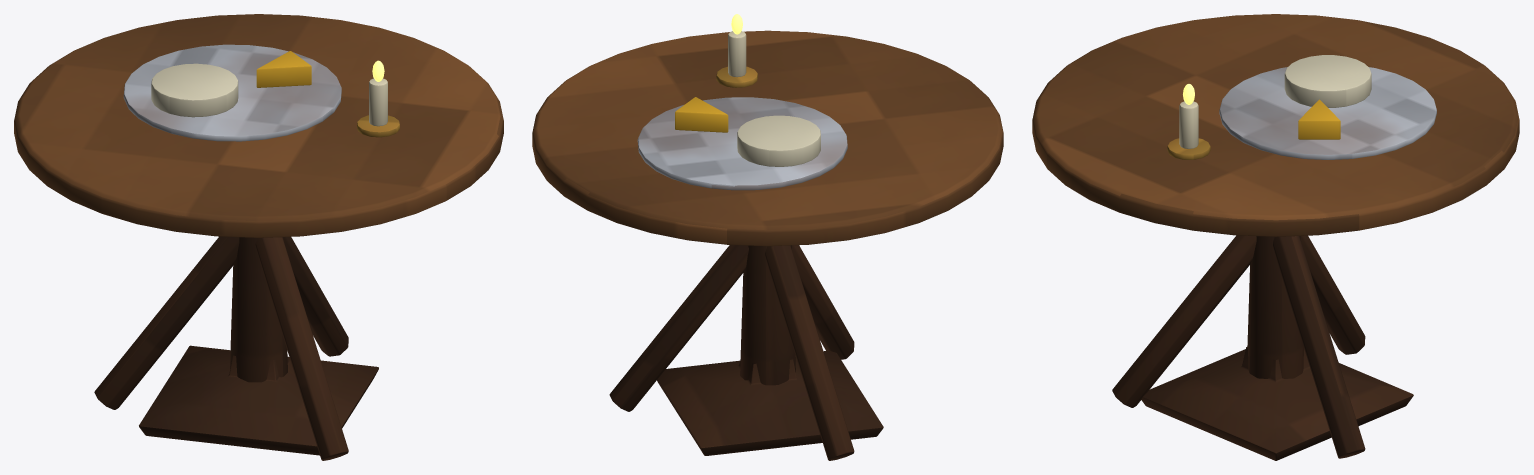
Rendered from prop_table.glb.
The picture shows the model from 3 angles, left to right: view 1: azimuth 30°, elevation 25°; view 2: azimuth 150°, elevation 25°; view 3: azimuth 270°, elevation 25°; orthographic projection. The views are drawn at different scales.
Visible parts, largest first — view 1: prop_table; view 2: prop_table; view 3: prop_table.
Boxes of the visible parts, x1,y1,x2,y2 form: prop_table: (14, 14, 503, 460); prop_table: (532, 14, 1003, 460); prop_table: (1032, 14, 1519, 460).
Bounding box in the file's own units: 1.12 × 0.912 × 1.12.
Materials: 8 (8 with a texture image).
